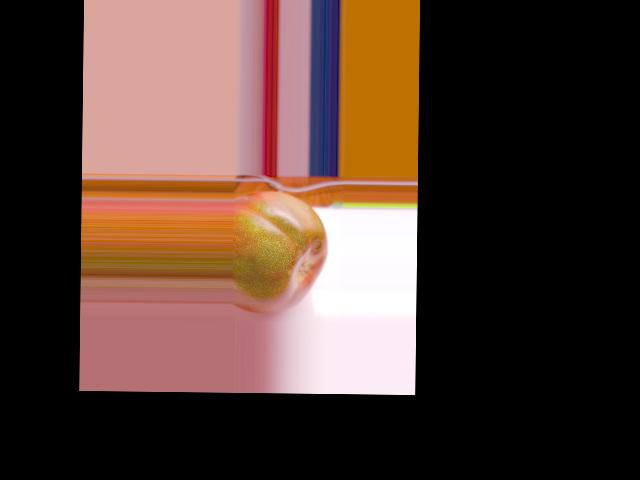tomato: (232, 190, 328, 313)
